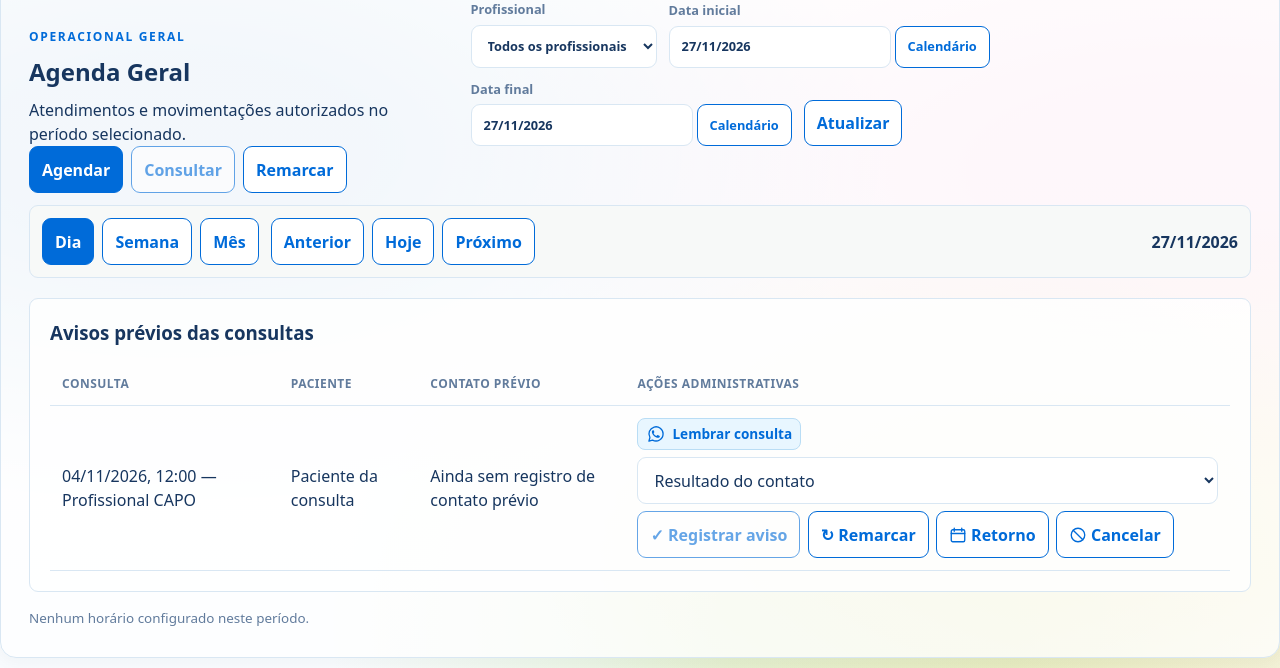
Test case: distingue remarcação, remanejamento e retorno antes de salvar
Click the button "↻ Remarcar": (868,534) left=808, top=511, right=929, bottom=558
(page scrolled)
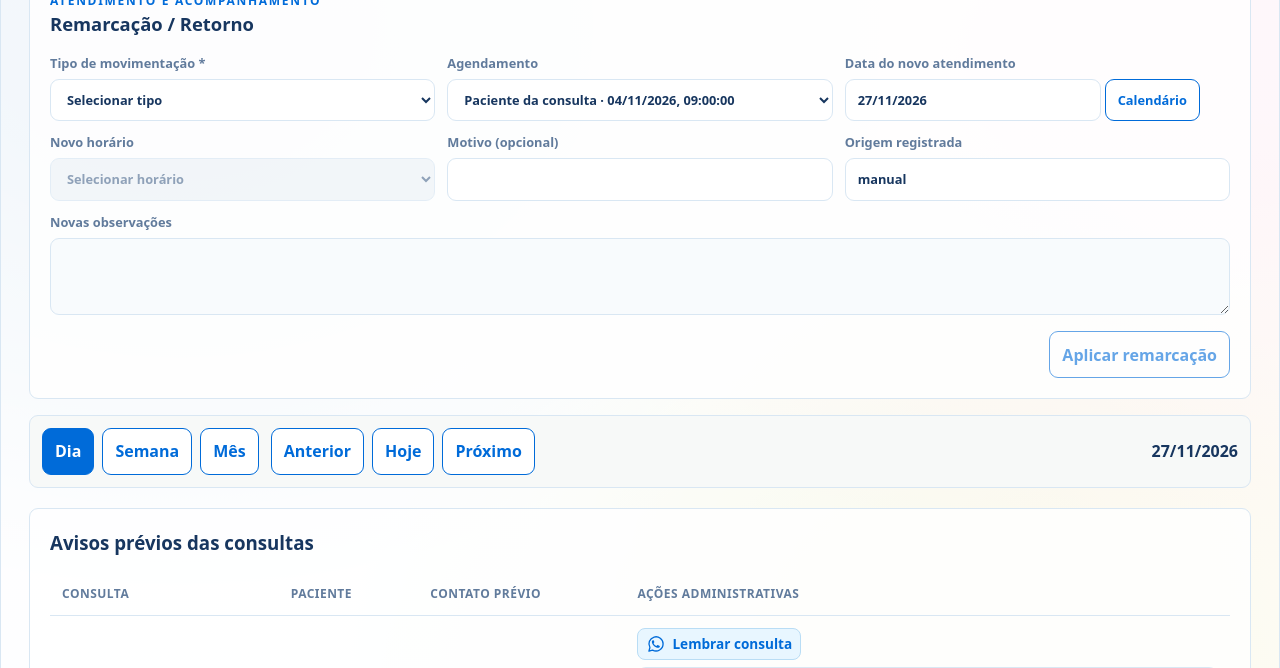
Result: the dropdown labelled "Tipo de movimentação *" is shown
Select "Remanejamento pelo CAPO / bloqueio de agenda" in the dropdown labelled "Tipo de movimentação *": (243,100) left=50, top=78, right=435, bottom=121
(page scrolled)
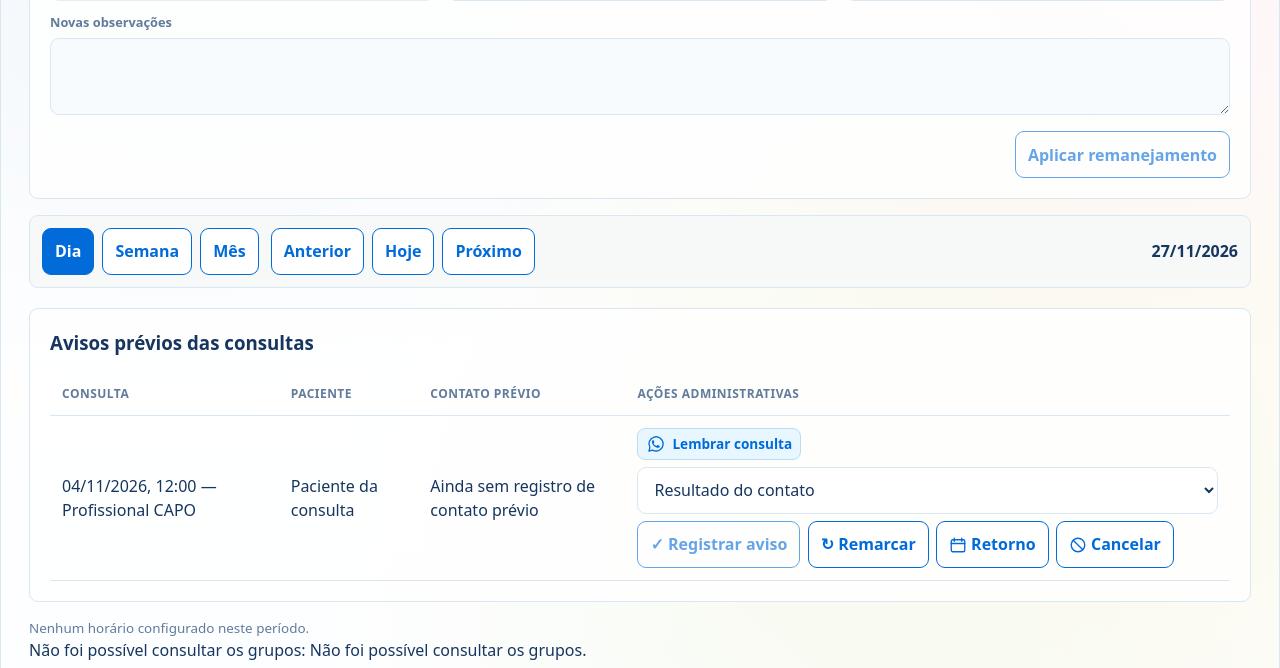
Result: the button "Aplicar remanejamento" is disabled at left=1015, top=131, right=1230, bottom=178
Click the button "Retorno": (992,544) left=936, top=521, right=1049, bottom=568
(page scrolled)
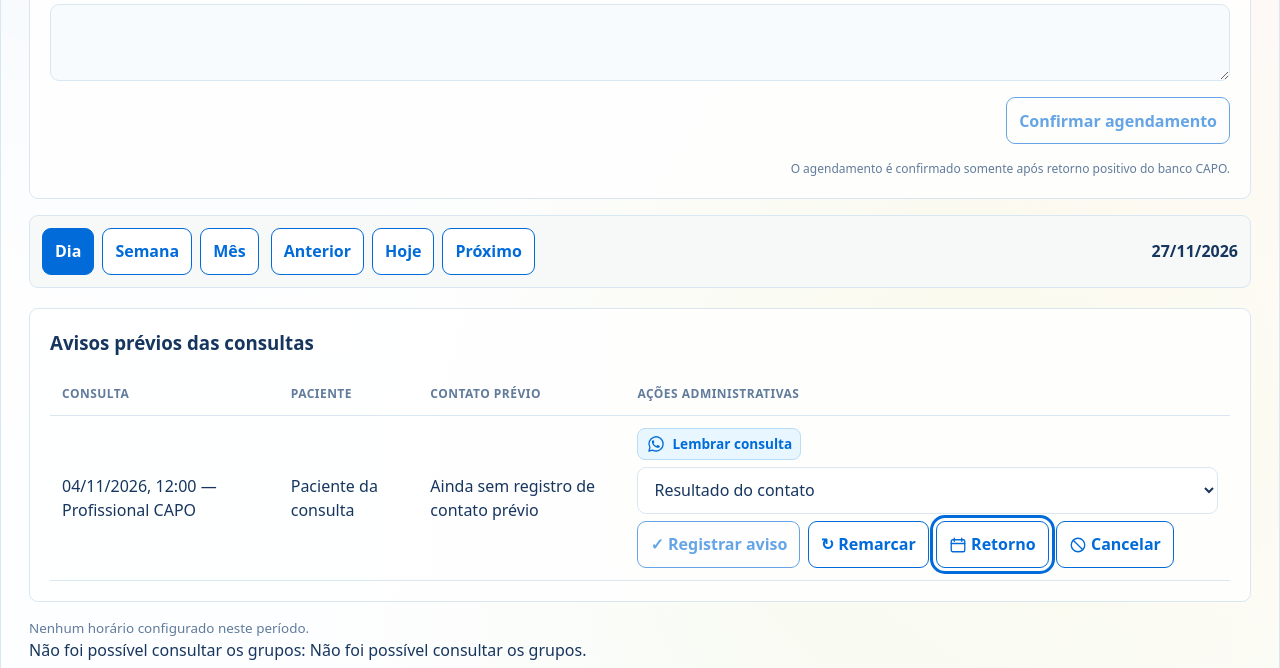
Result: the button "Confirmar agendamento" is disabled at left=1006, top=97, right=1230, bottom=144
